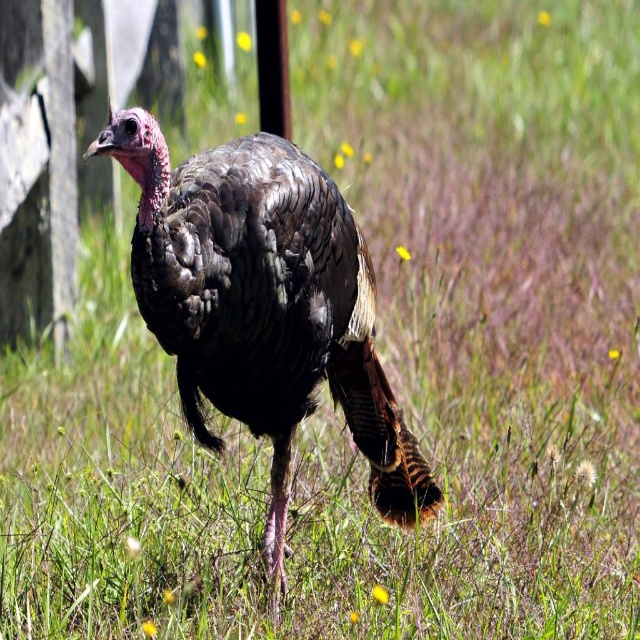Turkey: (82, 94, 447, 619)
